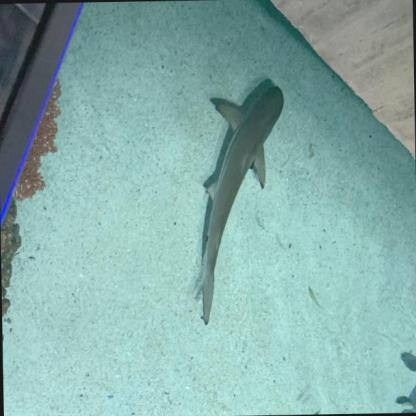fish: (400, 350, 415, 376)
shark: (188, 85, 288, 325)
